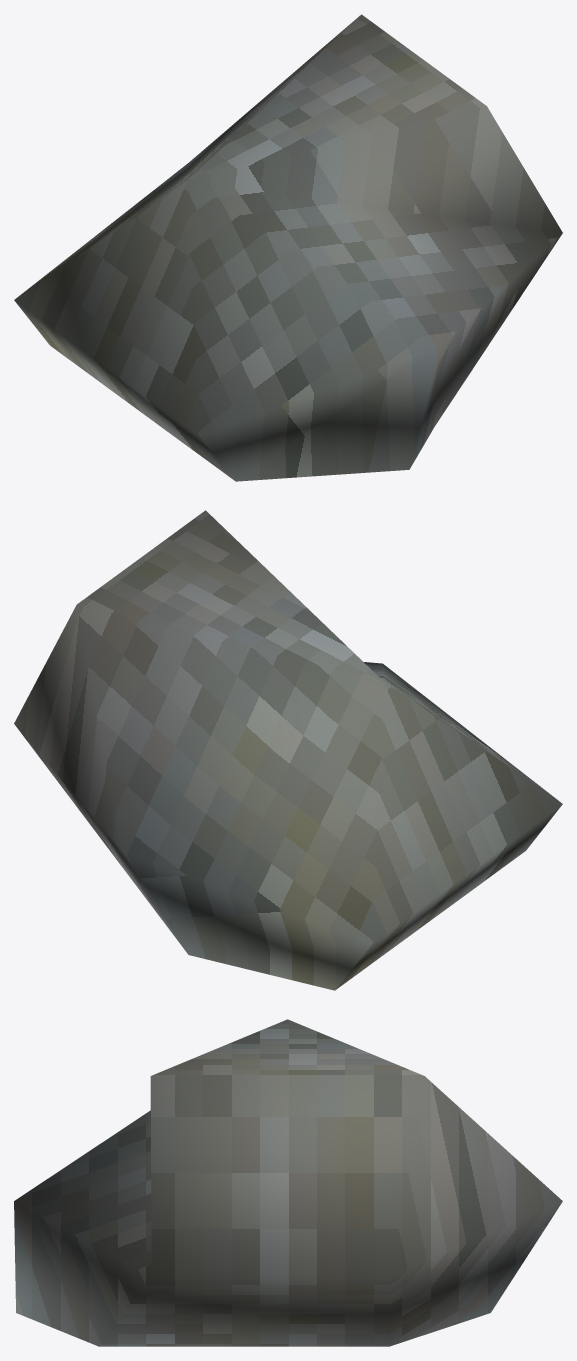
Rendered from Rock2.fbx.
The picture shows the model from 3 angles, top to bottom: view 1: azimuth 30°, elevation 25°; view 2: azimuth 150°, elevation 25°; view 3: azimuth 270°, elevation 25°; orthographic projection. The views are drawn at different scales.
Visible parts, largest first — view 1: Rock2; view 2: Rock2; view 3: Rock2.
Boxes of the visible parts, x1=… form: Rock2: x1=14, y1=14, x2=562, y2=481; Rock2: x1=14, y1=510, x2=562, y2=990; Rock2: x1=14, y1=1019, x2=562, y2=1346.
Size of the model in its own units: 1.95 by 1.34 by 2.15.
1 material, 1 textured.
